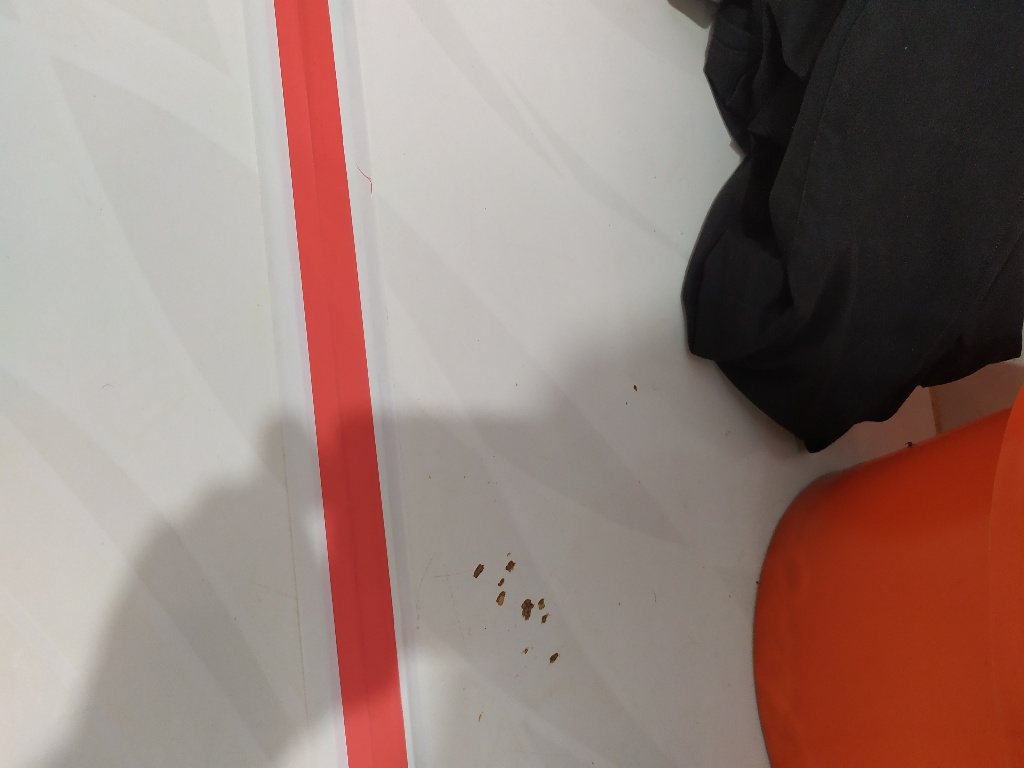reta: (233, 1, 425, 765)
